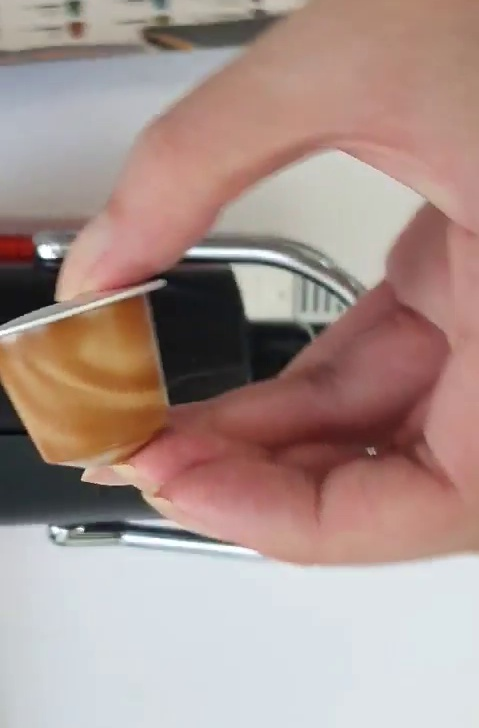capsule_12: (1, 275, 182, 471)
